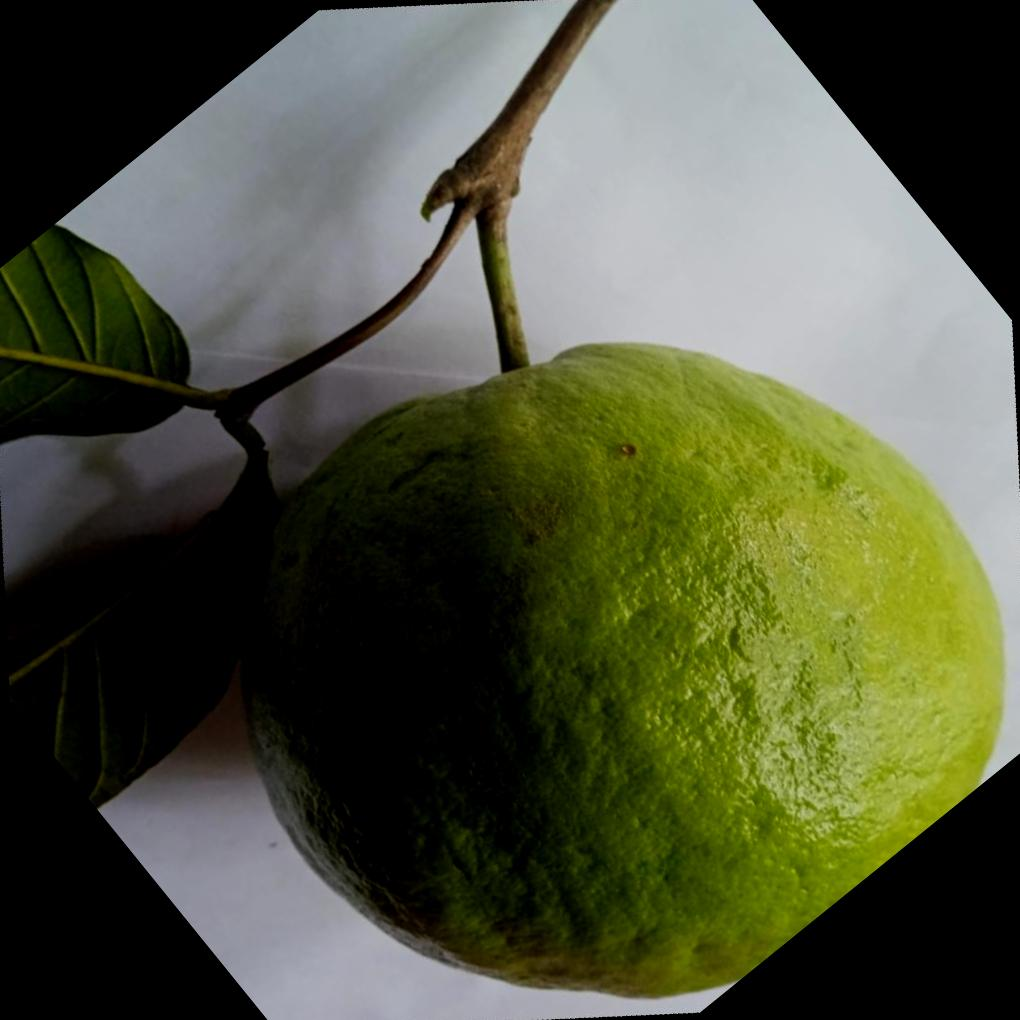FreshGuava: (233, 335, 1009, 1008)
